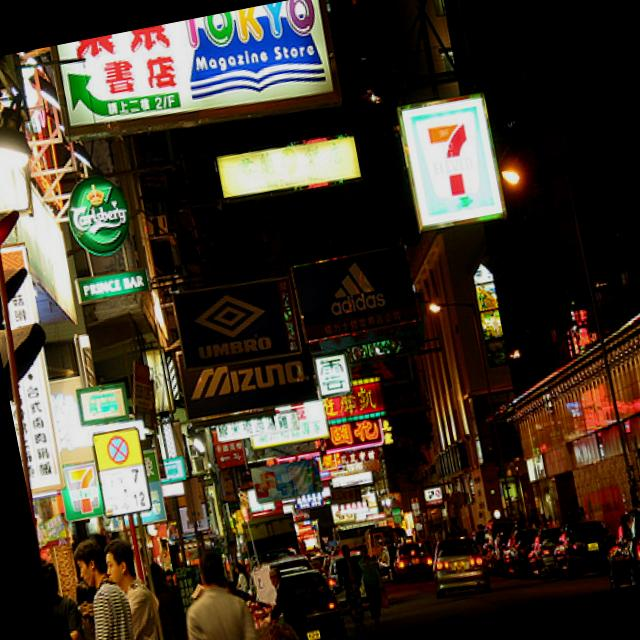Vehicle: (281, 564, 352, 640), (548, 518, 622, 579), (428, 534, 492, 600), (595, 496, 640, 589), (238, 506, 307, 560), (498, 526, 550, 580), (388, 538, 438, 588), (524, 526, 572, 578), (266, 552, 314, 577), (326, 558, 348, 584)
